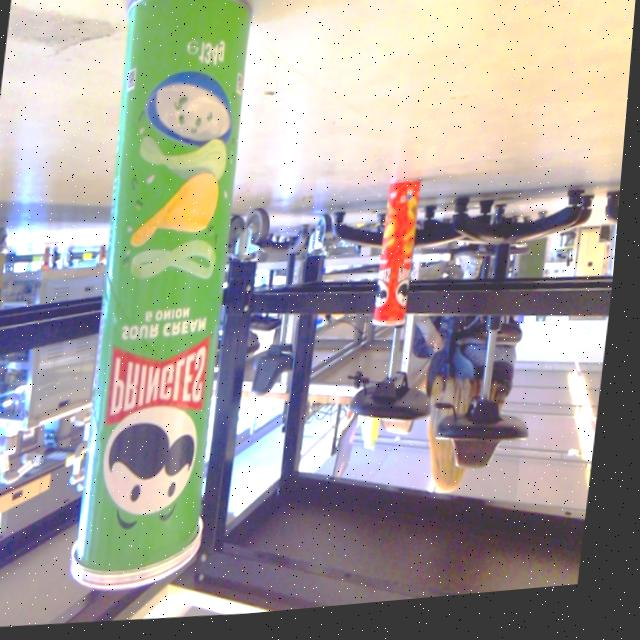greenpringles: (47, 0, 273, 613)
redpringles: (363, 178, 439, 348)
